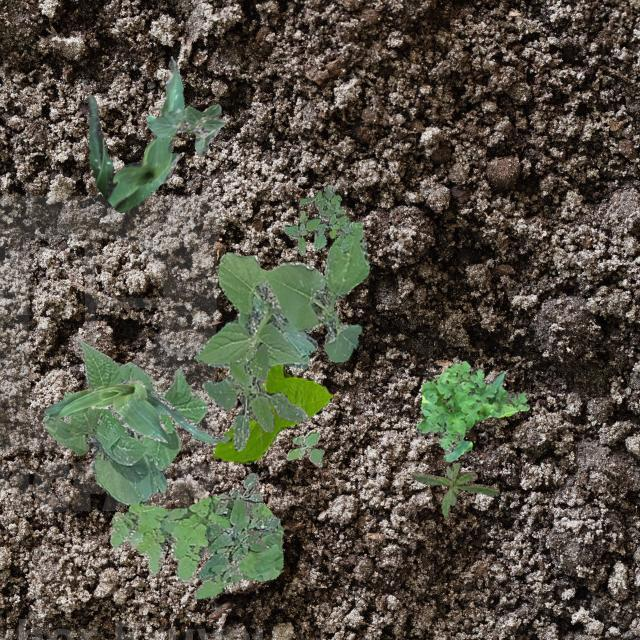crop: (42, 338, 206, 504), (86, 56, 182, 212), (44, 378, 230, 442), (212, 364, 332, 462), (146, 102, 224, 156)
weed: (192, 222, 368, 372), (109, 494, 282, 598), (200, 340, 306, 450), (414, 360, 528, 460), (198, 472, 278, 582), (282, 183, 352, 254), (410, 462, 498, 518), (284, 431, 324, 466)
